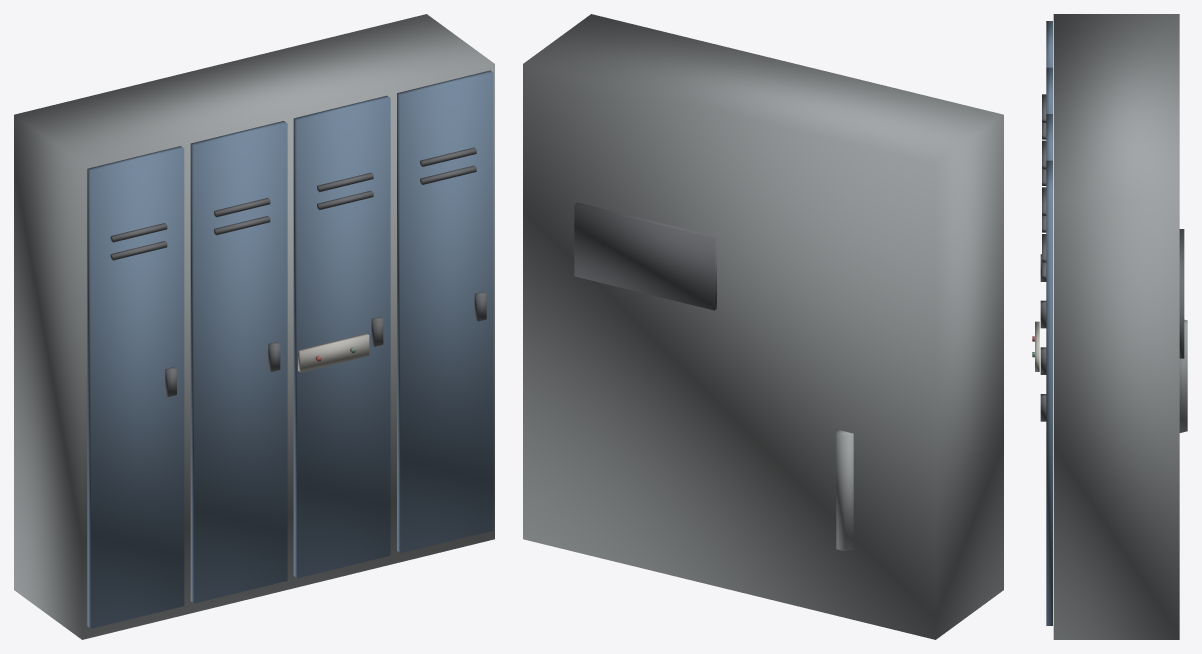
File: locker_bank__service.glb
3 renders of one model, left to right at view 1: azimuth 30°, elevation 25°; view 2: azimuth 150°, elevation 25°; view 3: azimuth 270°, elevation 25°, orthographic. The views are drawn at different scales.
Parts seen in each view (by area): view 1: world; view 2: world; view 3: world.
Boxes of the visible parts, x1,y1,x2,y2 form: world: (14,14,494,639); world: (523,14,1003,639); world: (1032,14,1187,639).
Bounding box in the file's own units: 1.68 × 1.85 × 0.5913.
